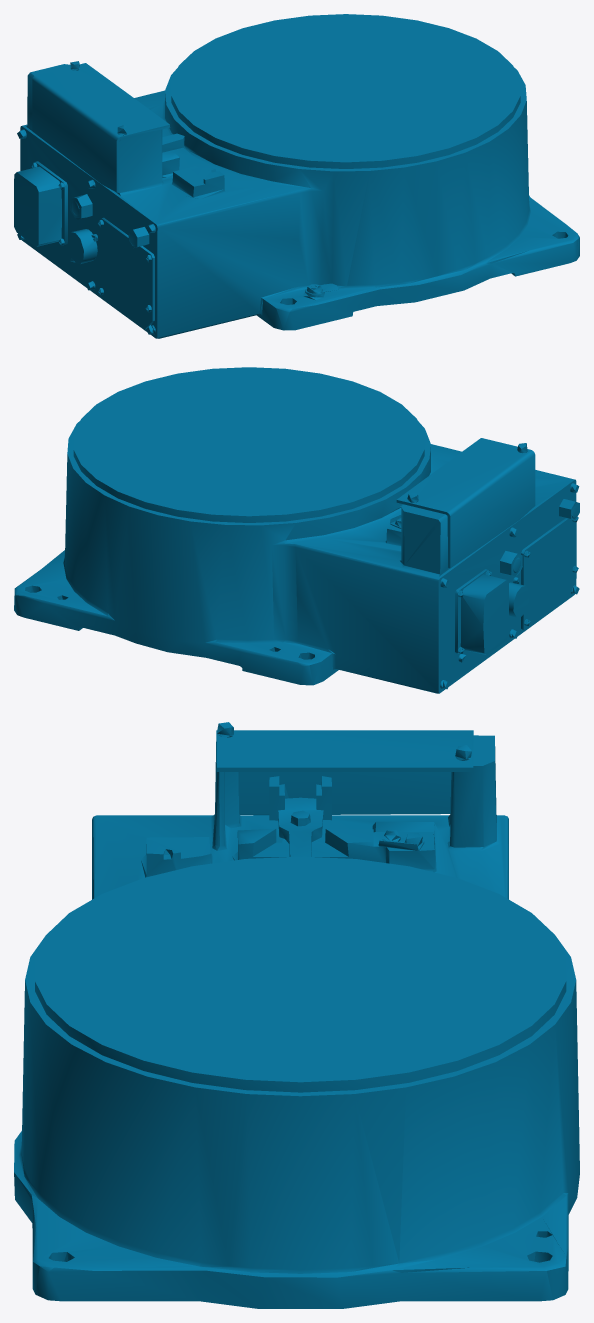
3 renders of one model, top to bottom at view 1: azimuth 30°, elevation 25°; view 2: azimuth 150°, elevation 25°; view 3: azimuth 270°, elevation 25°, orthographic. The views are drawn at different scales.
Parts seen in each view (by area): view 1: f_1-06vxh25-a0_lk0; view 2: f_1-06vxh25-a0_lk0; view 3: f_1-06vxh25-a0_lk0.
Part boxes in pixels (<box>): f_1-06vxh25-a0_lk0: <box>14,14,579,338</box>; f_1-06vxh25-a0_lk0: <box>14,367,579,693</box>; f_1-06vxh25-a0_lk0: <box>14,722,579,1308</box>.
Size of the model in its own units: 0.5488 by 0.3963 by 0.218.
